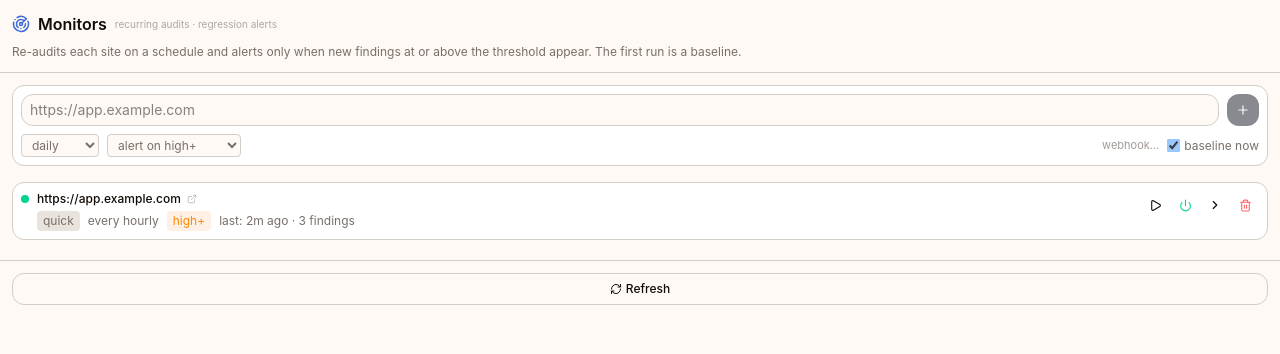
it: MonitorsPanel › omits the thumbnail when a run stored no screenshot
Expected: the text "https://app.example.com" is shown, [37, 191, 181, 207]
Click the button named "Toggle run history for monitor 1": (1215, 205) [1201, 191, 1229, 219]
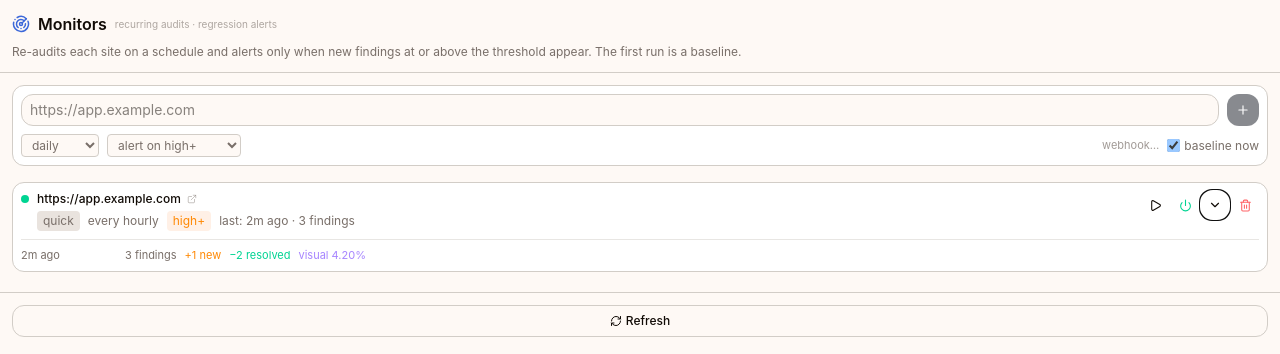
Now the text "+1 new" is shown, box [185, 248, 221, 263]
